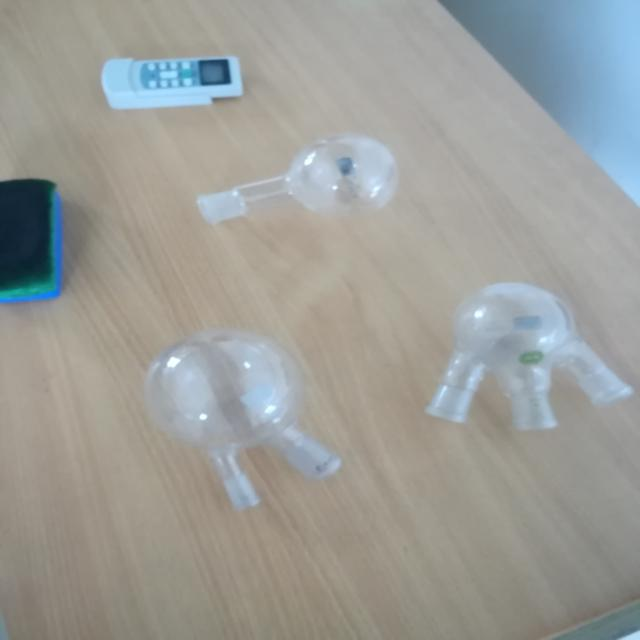Round_Bottom_Flask_Borosilicate_Glass_1_Neck: (181, 128, 427, 229)
Round_Bottom_Flask_Borosilicate_Glass_2_Neck: (86, 312, 375, 542)
Round_Bottom_Flask_Borosilicate_Glass_3_Neck: (413, 284, 640, 458)
